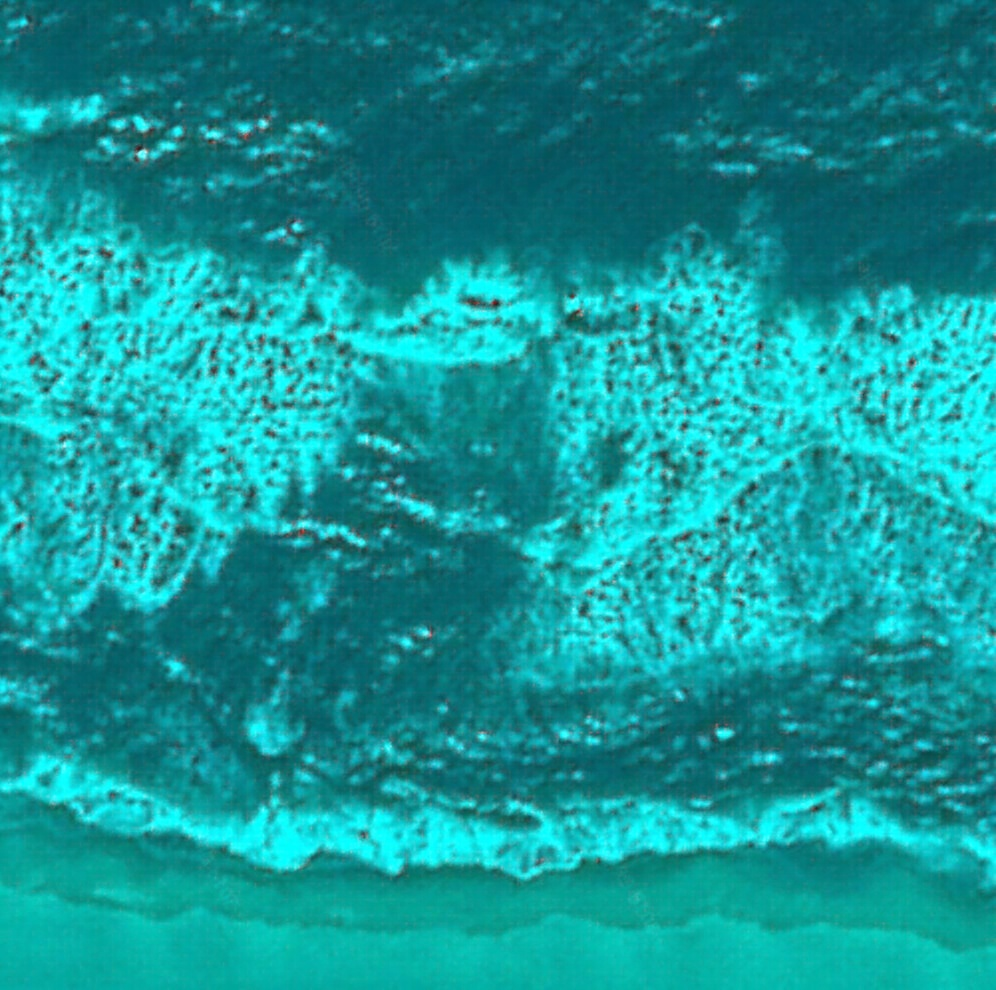rip_current: (124, 214, 609, 720)
